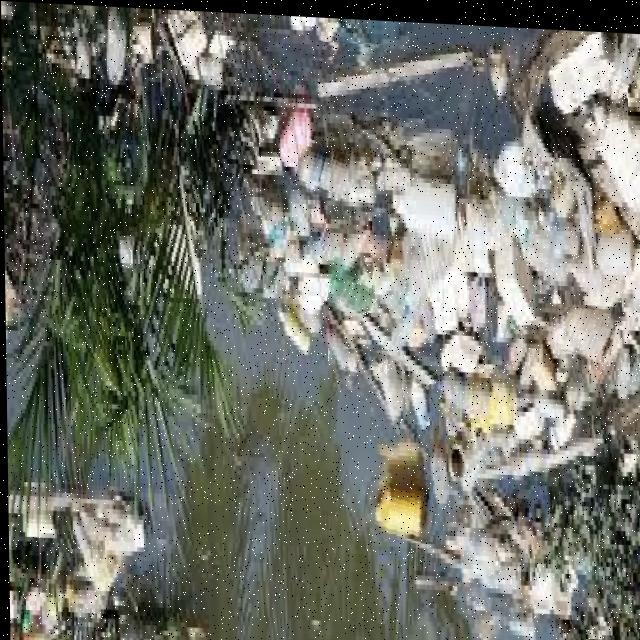plasticbottle: (368, 468, 430, 536), (545, 299, 613, 355), (294, 135, 349, 194), (326, 254, 371, 308), (405, 359, 428, 430)
thermocoal: (539, 22, 627, 145)
wood: (309, 37, 472, 111), (326, 343, 409, 451)
